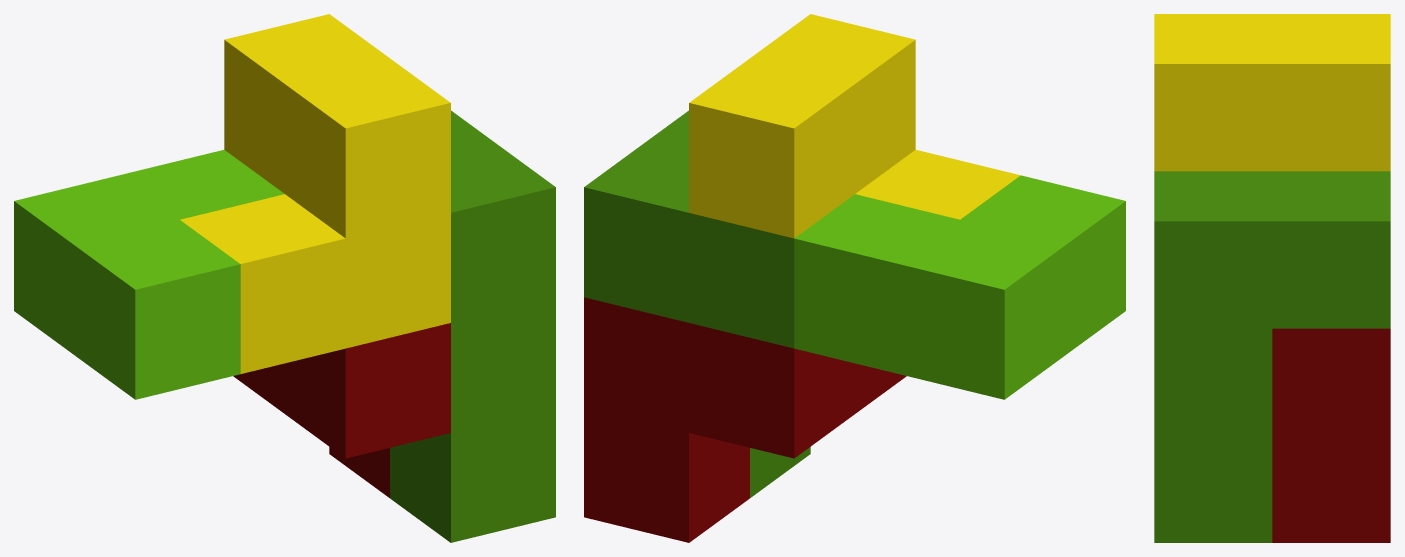
The picture shows the model from 3 angles, left to right: view 1: azimuth 30°, elevation 25°; view 2: azimuth 150°, elevation 25°; view 3: azimuth 270°, elevation 25°; orthographic projection. The views are drawn at different scales.
Parts seen in each view (by area): view 1: mergedBlocks(Clone); view 2: mergedBlocks(Clone); view 3: mergedBlocks(Clone).
Boxes of the visible parts, x1,y1,x2,y2 form: mergedBlocks(Clone): [14, 14, 555, 542]; mergedBlocks(Clone): [584, 14, 1125, 542]; mergedBlocks(Clone): [1154, 14, 1390, 542].
Bounding box in the file's own units: 4 × 4 × 2.
Materials: 4 (4 with a texture image).
